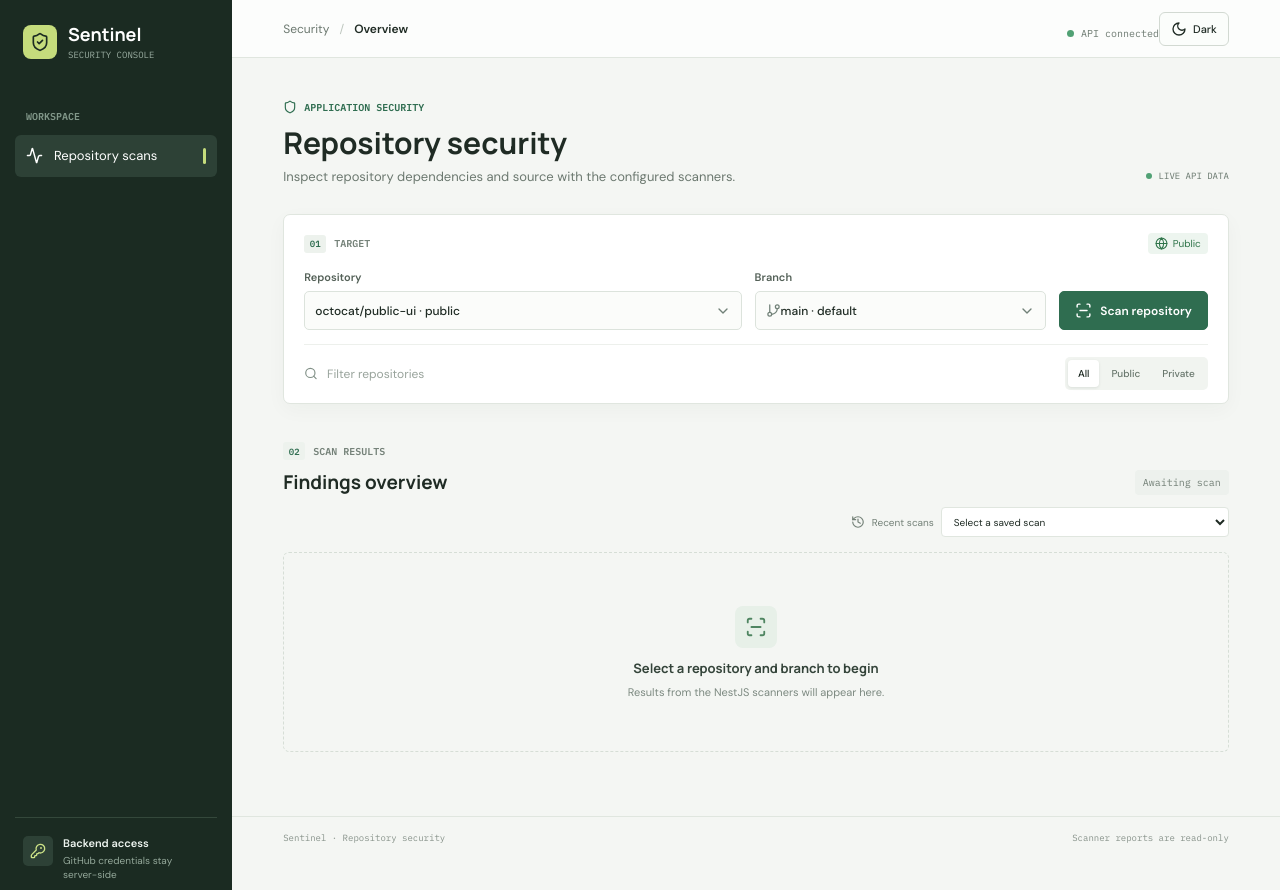
Scenario: Security dashboard › loads a persisted scan from backend history without source evidence
Select "octocat/private-api · release · 10/11/2026, 12:00:00 PM" in the dropdown named "Recent scan history". click: x=1085, y=522
box: [941,507,1229,537]
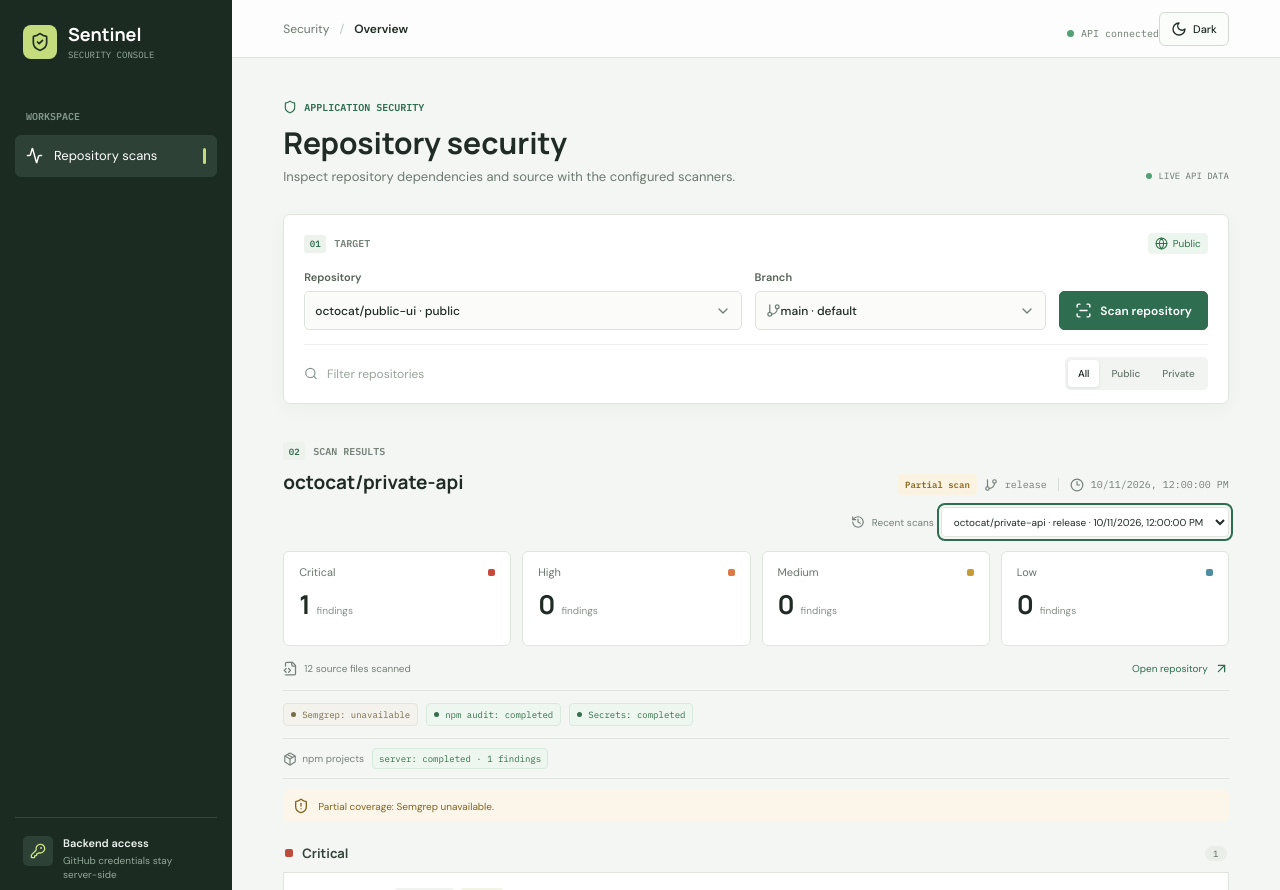
Expected: the text "Partial scan" is shown, [898,474,977,495]
Expected: the text "Semgrep: unavailable" is shown, [283,703,418,726]
